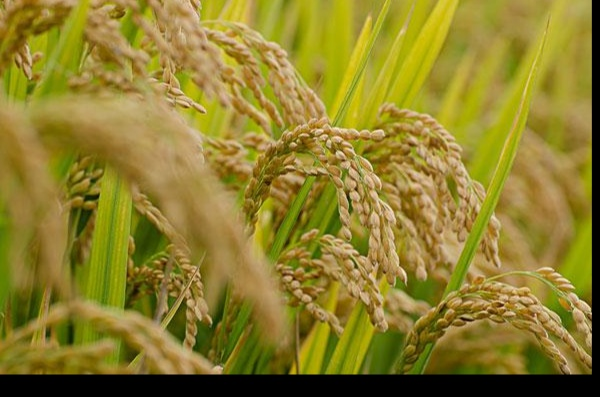rice: (237, 114, 406, 271), (401, 264, 588, 367), (244, 229, 392, 343)
